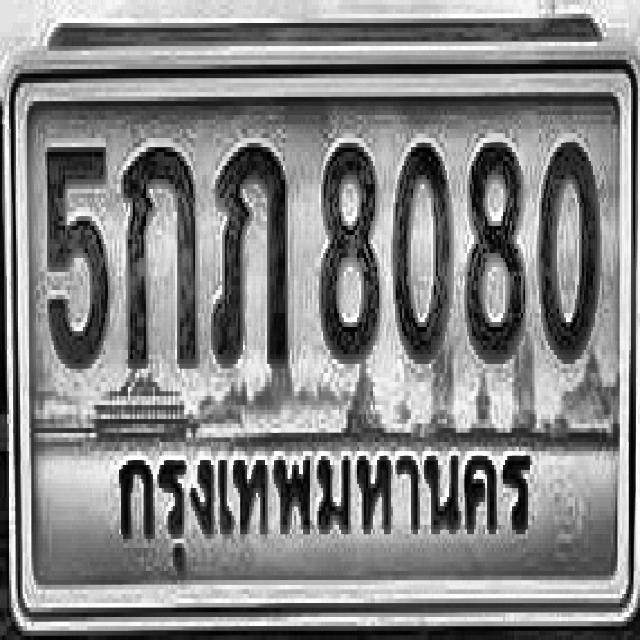license-plate: (4, 55, 640, 638)
